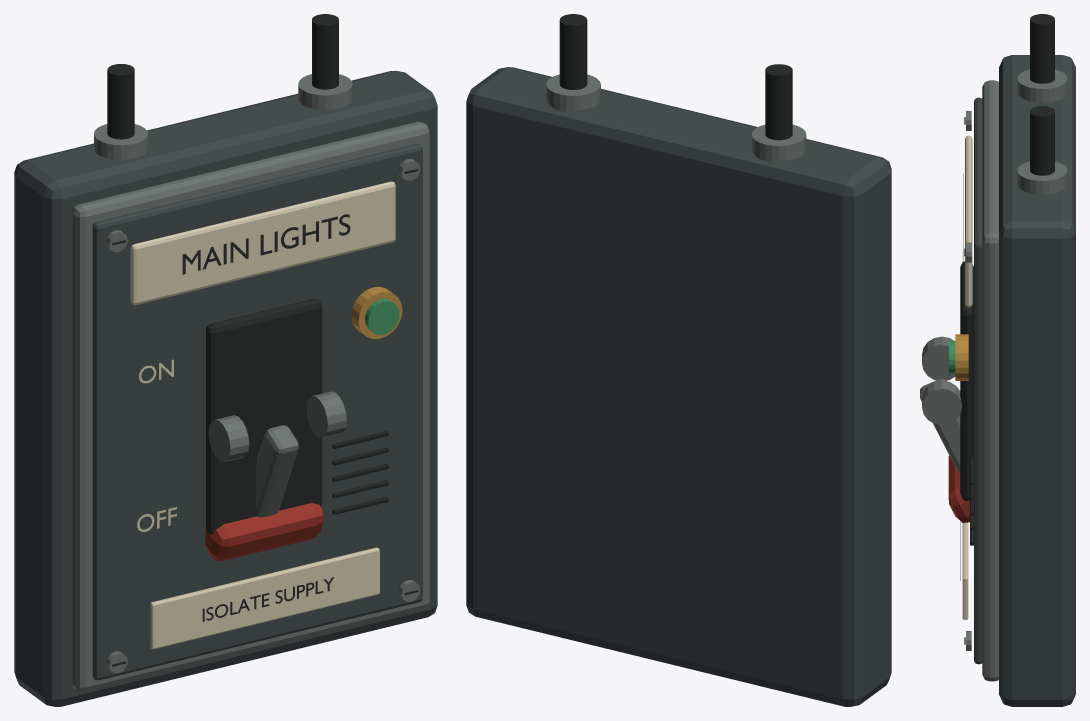
File: CellarFuseBox.glb
The picture shows the model from 3 angles, left to right: view 1: azimuth 30°, elevation 25°; view 2: azimuth 150°, elevation 25°; view 3: azimuth 270°, elevation 25°; orthographic projection. The views are drawn at different scales.
Visible parts, largest first — view 1: EnamelFace, CabinetBody, RaisedFront, LeverRecess, MainLabelPlate, WarningPlate, SwitchGrip, SwitchArm, ConduitStub, ConduitStub.001, LeverPivotCover, LeverPivotCover.001 (+6 smaller); view 2: CabinetBody, ConduitStub.001, ConduitStub, ConduitSocket, ConduitSocket.001; view 3: CabinetBody, RaisedFront, EnamelFace, LeverRecess, ConduitStub, ConduitStub.001, LeverPivotCover.001, MainLabelPlate, ConduitSocket, ConduitSocket.001, LeverPivotCover, SwitchArm (+3 smaller).
Part boxes in pixels (bbox=[...]): EnamelFace: bbox=[92, 144, 422, 680]; CabinetBody: bbox=[14, 70, 437, 706]; RaisedFront: bbox=[71, 121, 429, 691]; LeverRecess: bbox=[206, 299, 322, 534]; MainLabelPlate: bbox=[130, 181, 395, 305]; WarningPlate: bbox=[150, 547, 379, 649]; SwitchGrip: bbox=[205, 503, 323, 560]; SwitchArm: bbox=[256, 425, 298, 517]; ConduitStub: bbox=[107, 64, 134, 139]; ConduitStub.001: bbox=[312, 14, 338, 89]; LeverPivotCover: bbox=[208, 415, 249, 462]; LeverPivotCover.001: bbox=[307, 391, 346, 438]; CabinetBody: bbox=[466, 67, 891, 706]; ConduitStub.001: bbox=[559, 14, 587, 89]; ConduitStub: bbox=[765, 64, 792, 140]; ConduitSocket: bbox=[751, 124, 806, 162]; ConduitSocket.001: bbox=[546, 74, 600, 111]; CabinetBody: bbox=[999, 55, 1075, 706]; RaisedFront: bbox=[982, 80, 998, 681]; EnamelFace: bbox=[974, 97, 982, 664]; LeverRecess: bbox=[960, 261, 973, 501]; ConduitStub: bbox=[1030, 14, 1054, 83]; ConduitStub.001: bbox=[1030, 106, 1054, 175]; LeverPivotCover.001: bbox=[922, 380, 961, 425]; MainLabelPlate: bbox=[965, 135, 972, 307]; ConduitSocket: bbox=[1017, 69, 1067, 102]; ConduitSocket.001: bbox=[1017, 161, 1067, 194]; LeverPivotCover: bbox=[922, 336, 955, 380]; SwitchArm: bbox=[920, 378, 960, 472].
Bounding box in the file's own units: 2.5 × 3.68 × 0.9314.
